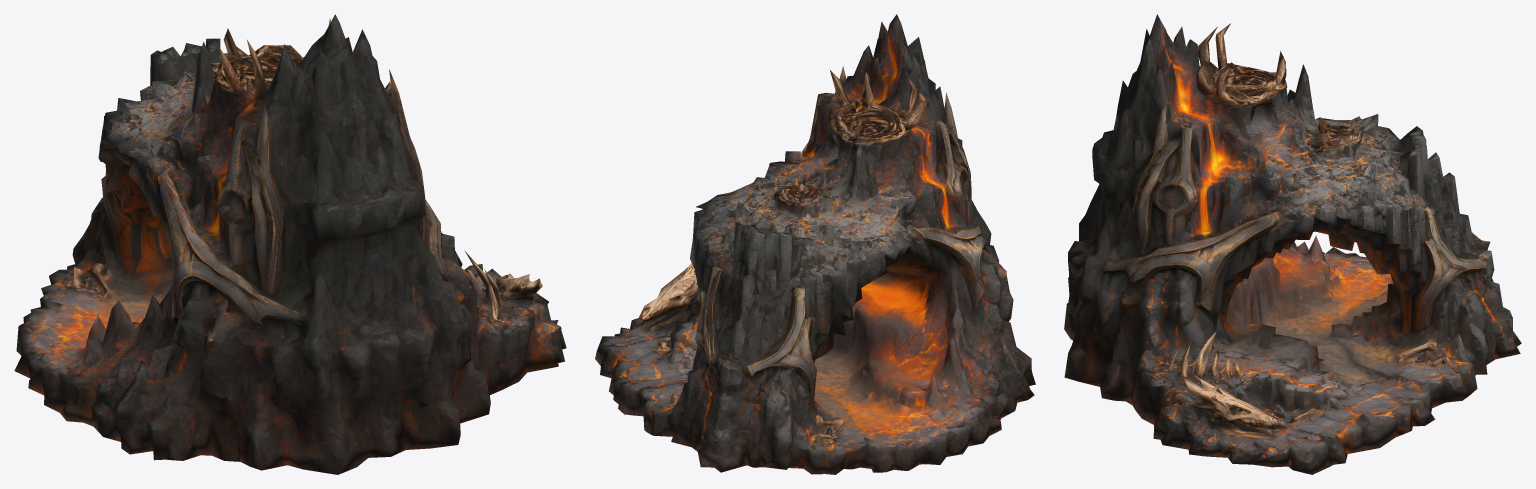
Rendered from env_ro_arch.glb.
The picture shows the model from 3 angles, left to right: view 1: azimuth 30°, elevation 25°; view 2: azimuth 150°, elevation 25°; view 3: azimuth 270°, elevation 25°; orthographic projection. The views are drawn at different scales.
Visible parts, largest first — view 1: tripo_node_afd23265-8c6c-4292-aadf-cac48329e1f6; view 2: tripo_node_afd23265-8c6c-4292-aadf-cac48329e1f6; view 3: tripo_node_afd23265-8c6c-4292-aadf-cac48329e1f6.
Boxes of the visible parts, left/top/right/bottom form: tripo_node_afd23265-8c6c-4292-aadf-cac48329e1f6: left=14, top=14, right=566, bottom=474; tripo_node_afd23265-8c6c-4292-aadf-cac48329e1f6: left=595, top=14, right=1035, bottom=474; tripo_node_afd23265-8c6c-4292-aadf-cac48329e1f6: left=1064, top=14, right=1521, bottom=474.
Bounding box in the file's own units: 0.9926 × 0.8434 × 1.
Materials: 1 (1 with a texture image).
